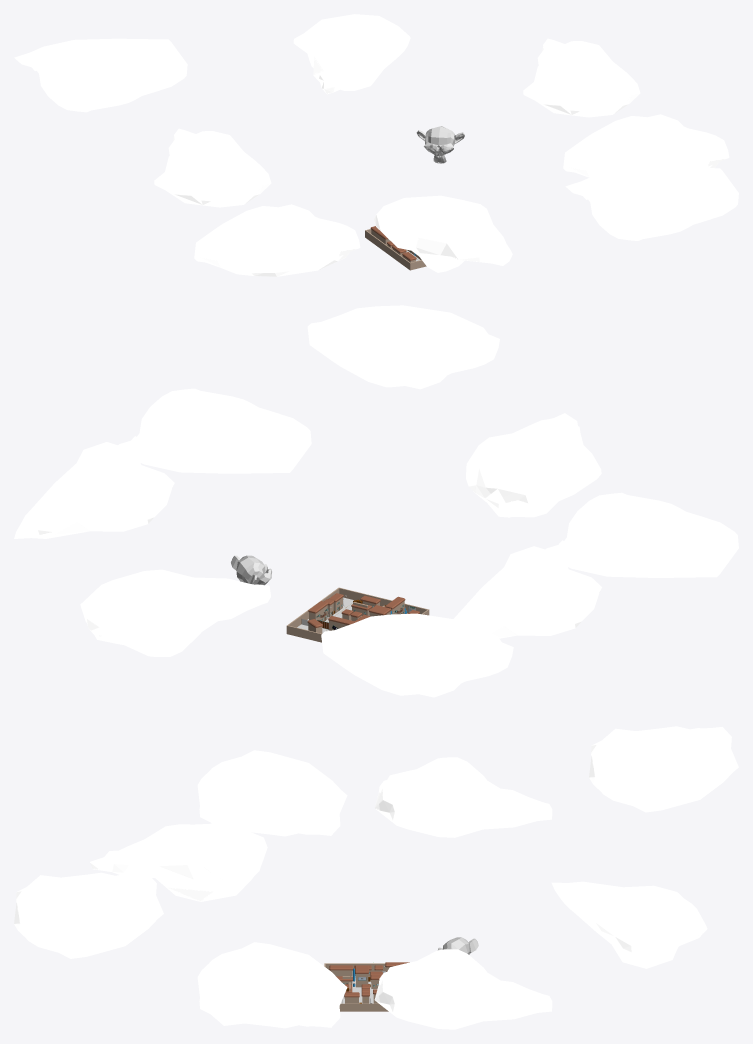
The model's file is Level_3.glb.
3 renders of one model, top to bottom at view 1: azimuth 30°, elevation 25°; view 2: azimuth 150°, elevation 25°; view 3: azimuth 270°, elevation 25°, orthographic. The views are drawn at different scales.
Parts seen in each view (by area): view 1: Cloud.008, Cloud.004, Cloud.001, Cloud.003, Cloud.005, Cloud.006, Cloud.002, Cloud.007, Suzanne; view 2: Cloud.005, Cloud.001, Cloud.008, Cloud.004, Cloud.007, Cloud.003, Cloud.006, Cloud.002, Suzanne; view 3: Cloud.005, Cloud.008, Cloud.004, Cloud.001, Cloud.002, Cloud.006, Cloud.003, Cloud.007.
Boxes of the visible parts, <box> form: Cloud.008: <box>565,167,738,240</box>; Cloud.004: <box>14,38,187,112</box>; Cloud.001: <box>194,204,360,276</box>; Cloud.003: <box>374,195,512,272</box>; Cloud.005: <box>563,114,729,177</box>; Cloud.006: <box>523,38,640,117</box>; Cloud.002: <box>154,128,271,207</box>; Cloud.007: <box>293,14,410,94</box>; Suzanne: <box>416,126,464,163</box>; Cloud.005: <box>118,388,311,473</box>; Cloud.001: <box>545,492,738,577</box>; Cloud.008: <box>307,305,499,389</box>; Cloud.004: <box>321,613,513,697</box>; Cloud.007: <box>80,569,270,656</box>; Cloud.003: <box>466,413,601,517</box>; Cloud.006: <box>14,442,174,538</box>; Cloud.002: <box>453,546,601,638</box>; Suzanne: <box>231,555,271,585</box>; Cloud.005: <box>197,942,347,1028</box>; Cloud.008: <box>14,872,163,958</box>; Cloud.004: <box>589,726,738,812</box>; Cloud.001: <box>197,750,347,836</box>; Cloud.002: <box>374,757,552,837</box>; Cloud.006: <box>374,949,552,1029</box>; Cloud.003: <box>90,823,267,901</box>; Cloud.007: <box>551,881,707,968</box>.
Size of what is drawn, in the model's own units: 550 by 139 by 634.
34 materials, 6 textured.
